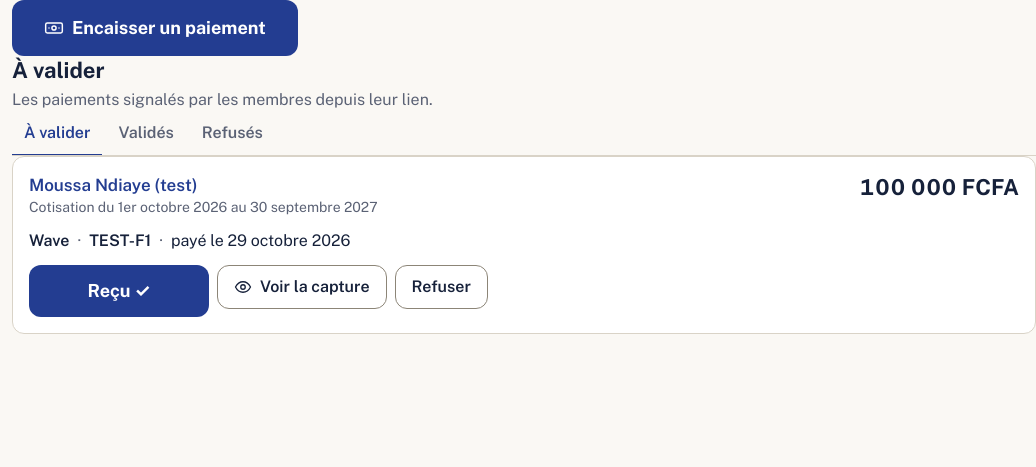
it: B3 — « Reçu ✓ » : la confirmation légère (R9) › « Reçu ✓ » ouvre un panneau, pas une boîte modale ; « Confirmer » valide
Click the button "Reçu ✓": (119, 291) [29,265,209,317]
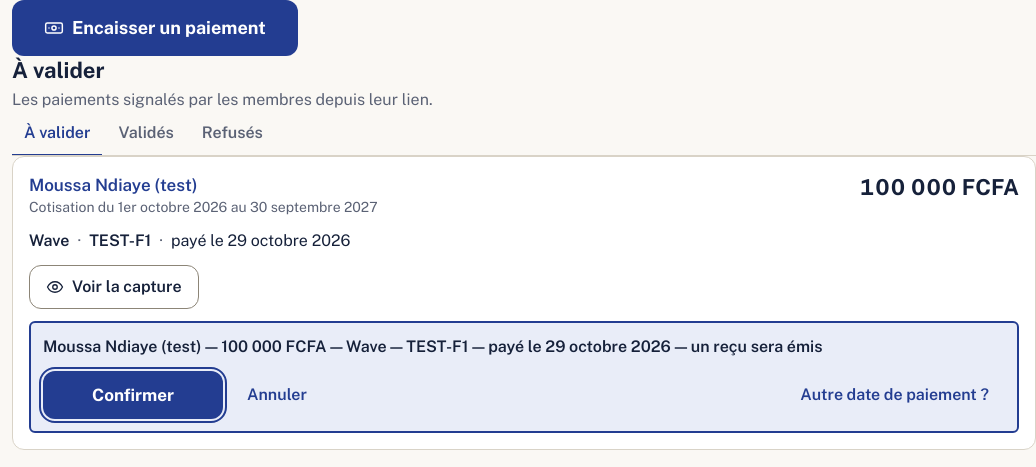
Check: the element with test id "recap" shows "Moussa Ndiaye (test) — 100 000 FCFA — Wave — TEST-F1 — payé le 29 octobre 2026 — un reçu sera émis", box [43,337,822,356]
Click the button "Confirmer": (133, 395) [43,371,223,419]
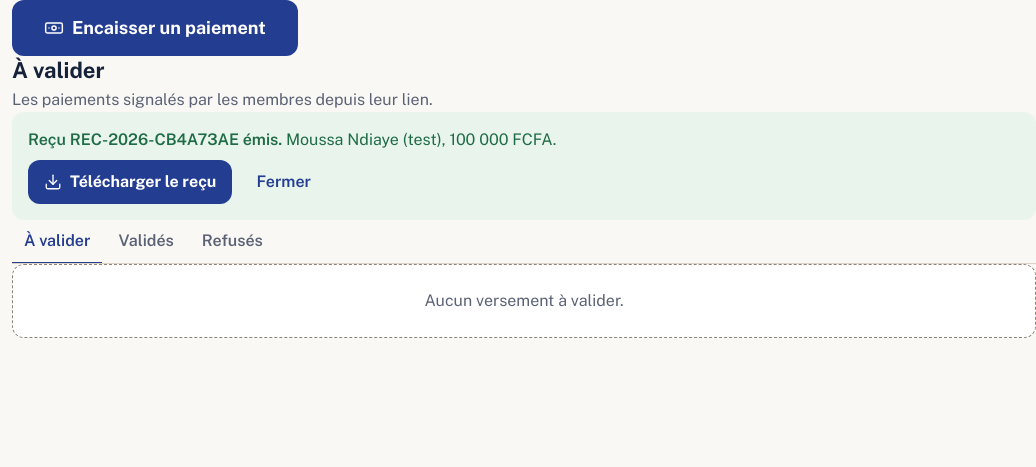
Check: the button "Reçu ✓" is not shown
Check: the text "Reçu REC-2026-CB4A73AE émis." is shown, box [28,130,282,149]
Check: the button "Télécharger le reçu" is shown, box [28,160,232,204]
